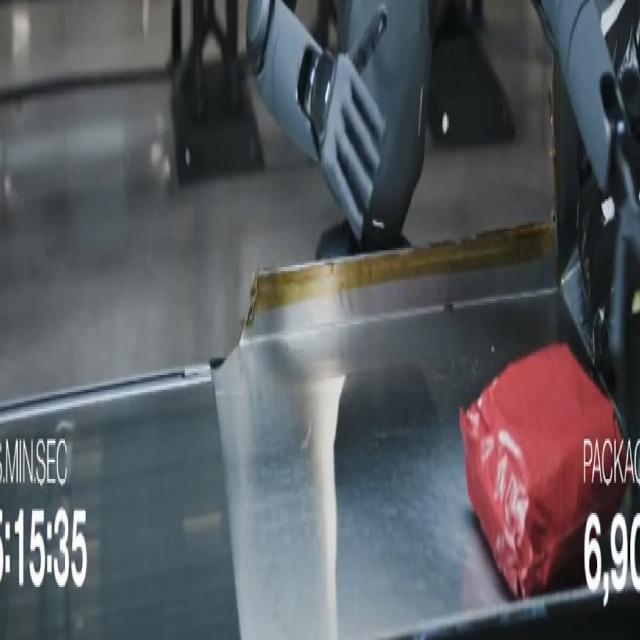package: (460, 344, 625, 597), (577, 142, 618, 379)
